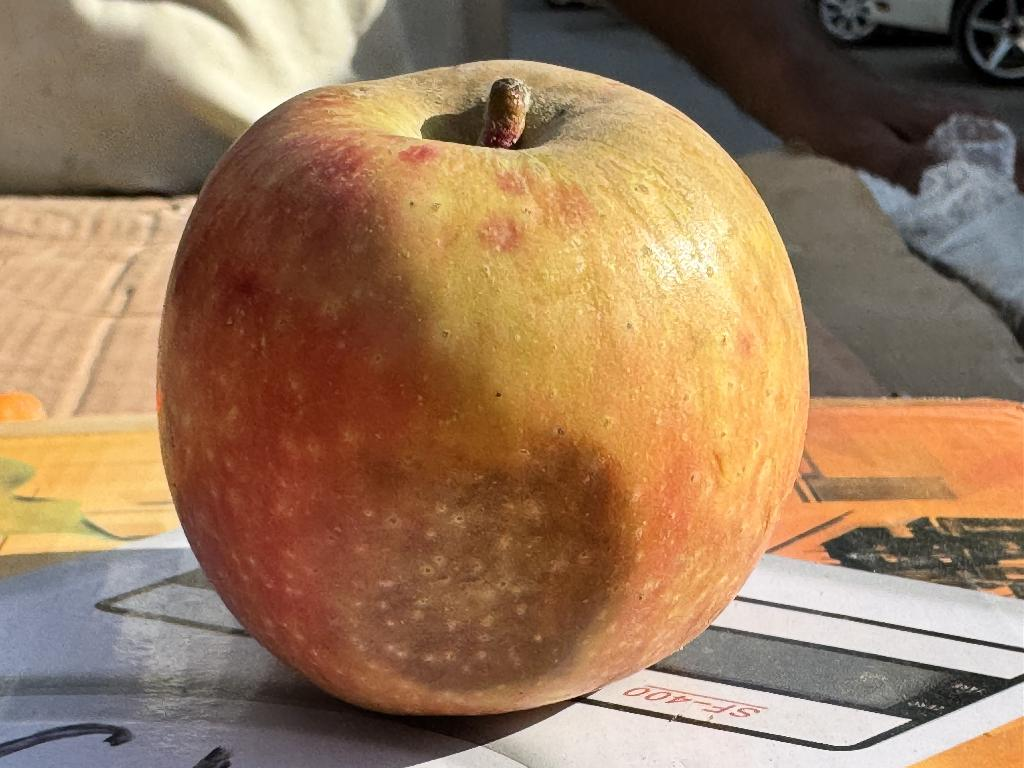apple: (158, 61, 808, 714)
bruise_discoloration: (366, 439, 636, 691)
